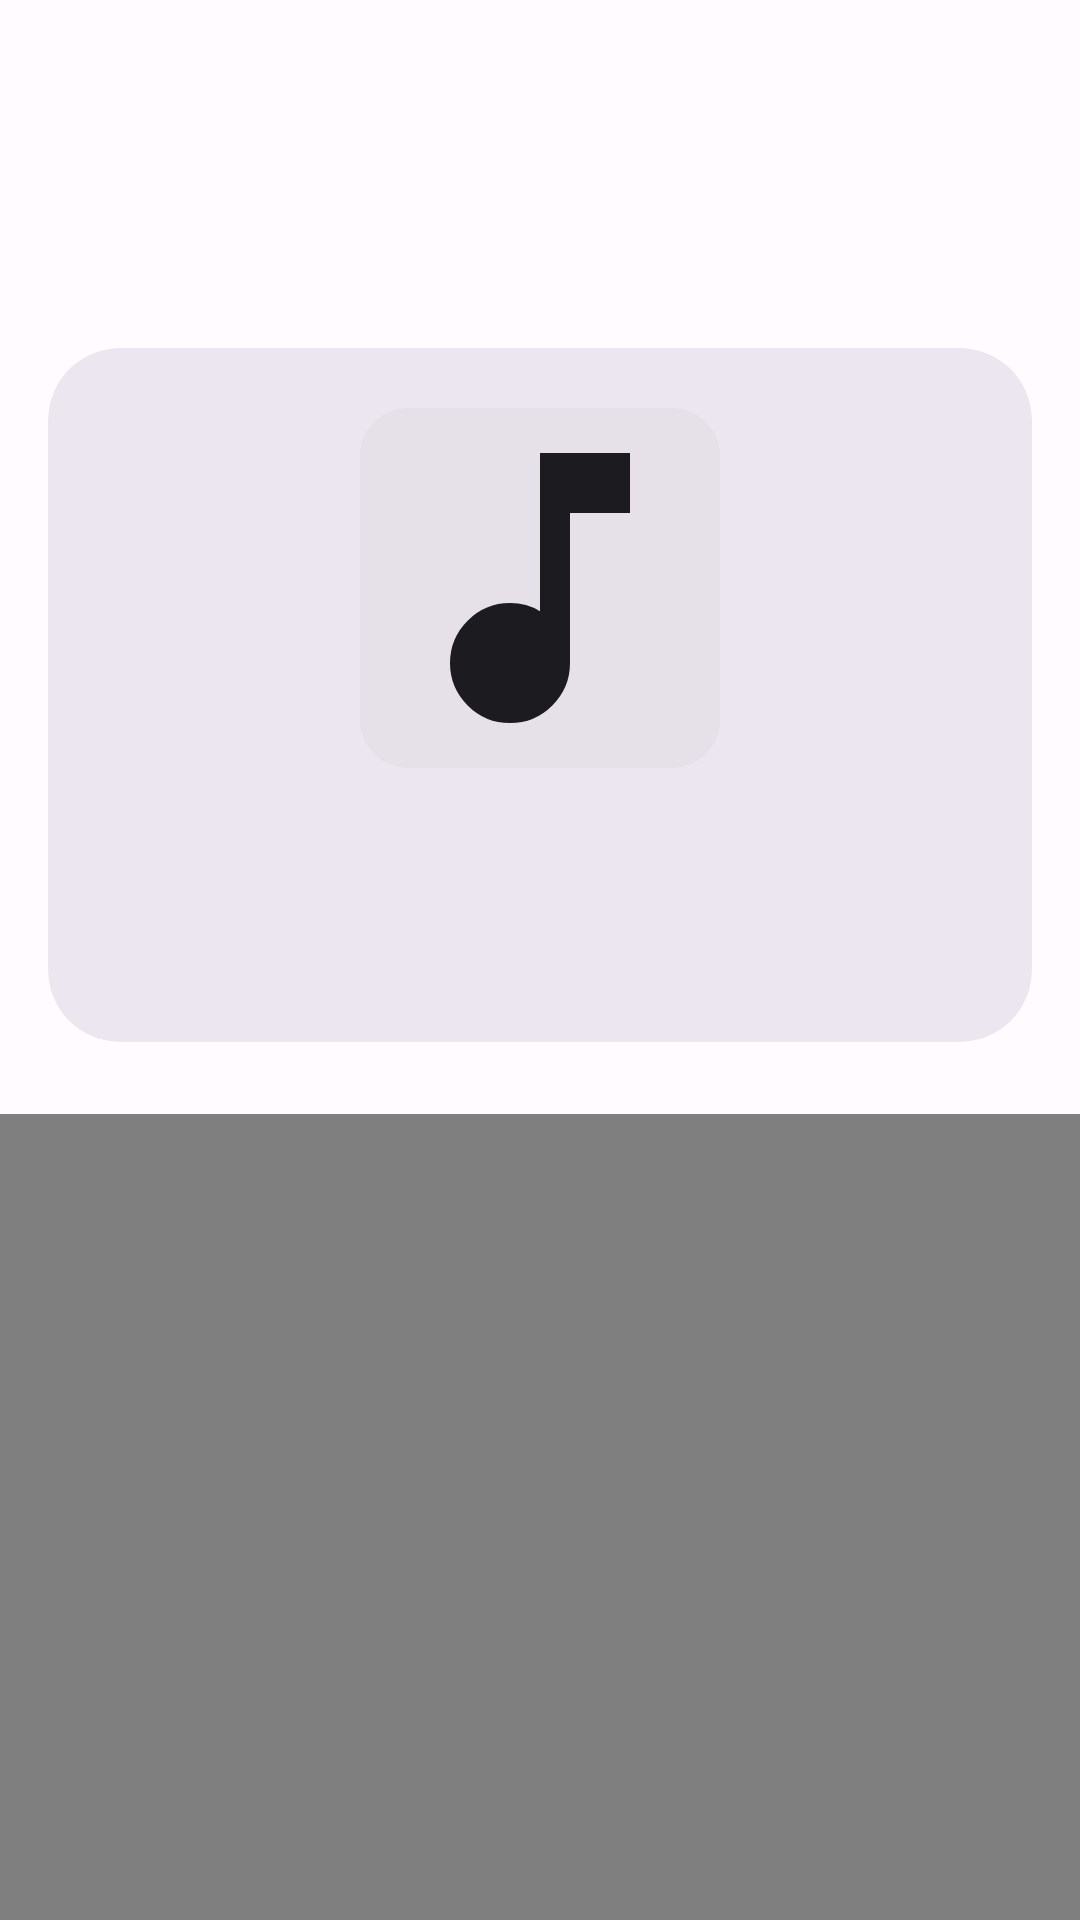

Icon click points for this 1080px x 1920px phone screenshot, format point (x, y):
music note: point (540, 588)
